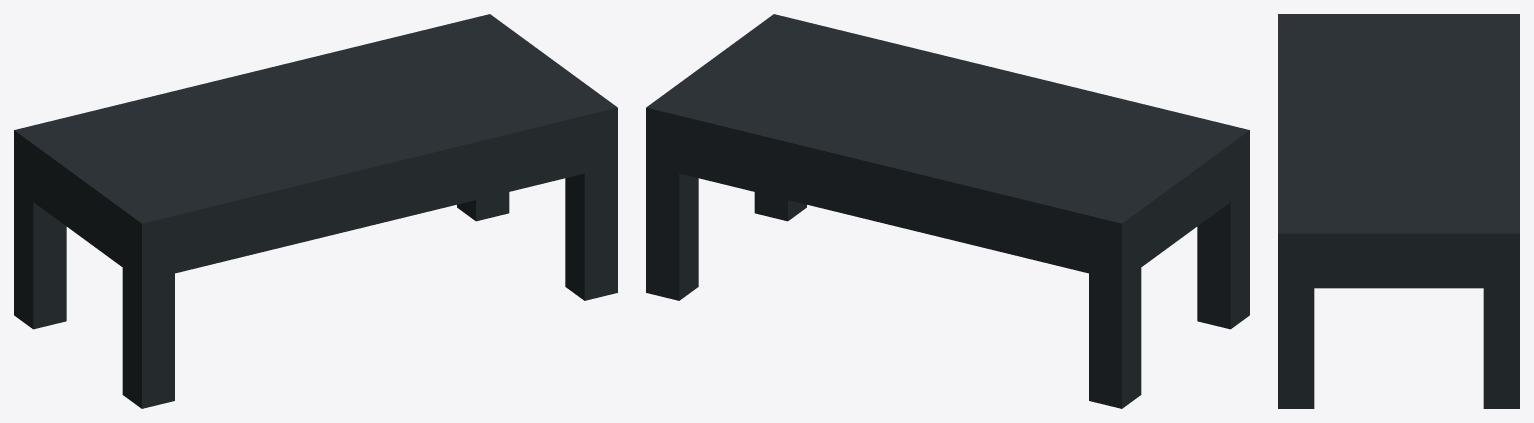
File: table1.fbx
3 renders of one model, left to right at view 1: azimuth 30°, elevation 25°; view 2: azimuth 150°, elevation 25°; view 3: azimuth 270°, elevation 25°, orthographic. The views are drawn at different scales.
Parts seen in each view (by area): view 1: Cube; view 2: Cube; view 3: Cube.
Part boxes in pixels (left/top/right/bottom): Cube: left=14, top=14, right=617, bottom=408; Cube: left=646, top=14, right=1249, bottom=408; Cube: left=1278, top=14, right=1519, bottom=408.
Size of the model in its own units: 430 by 160 by 200.
